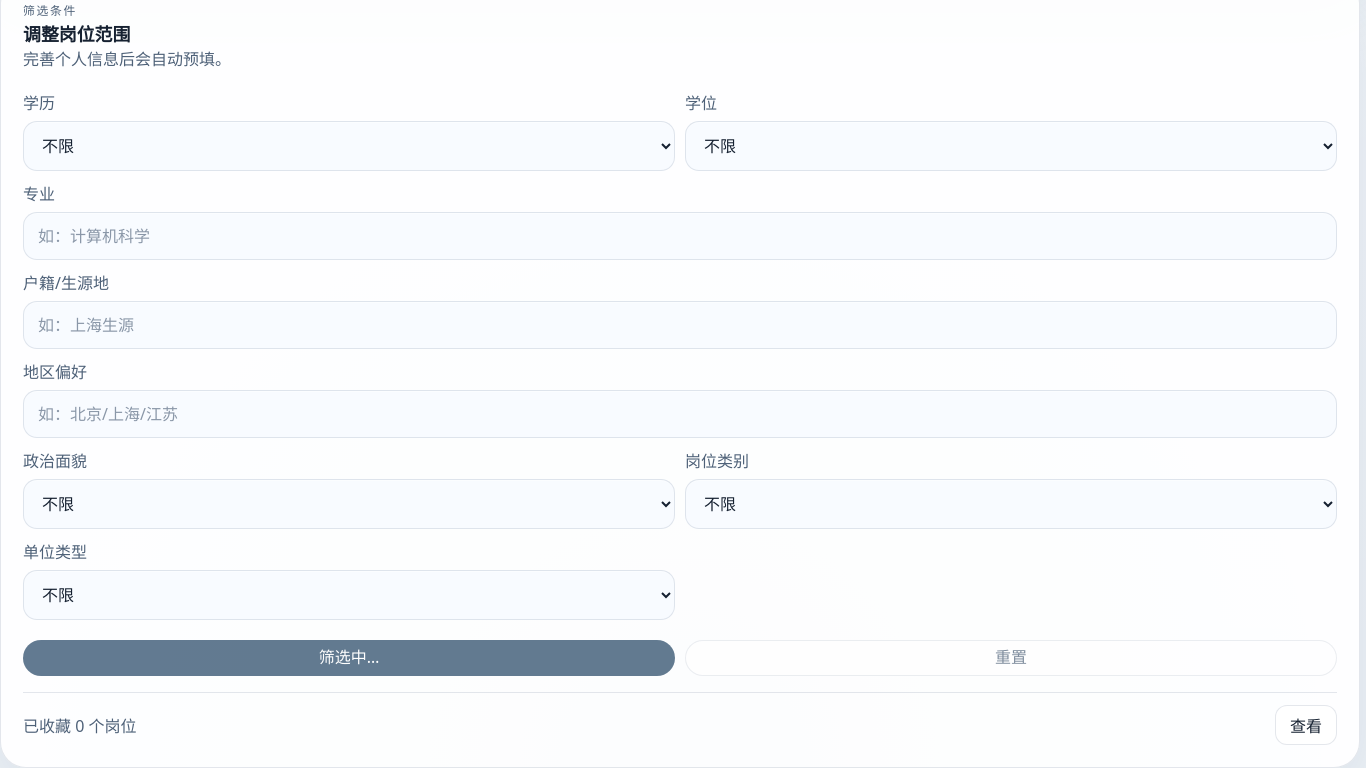
Test: kaogong student split pages › opens favorite jobs in a modal instead of rendering the collection list inline
The width and height of the screenshot is (1366, 768).
(page scrolled)
Expected: the text "收藏测试岗A" is not shown
Expected: the text "收藏测试岗B" is not shown
Click the button with aria-label "查看收藏岗位": (1306, 725) [1275,705,1337,745]
(page scrolled)
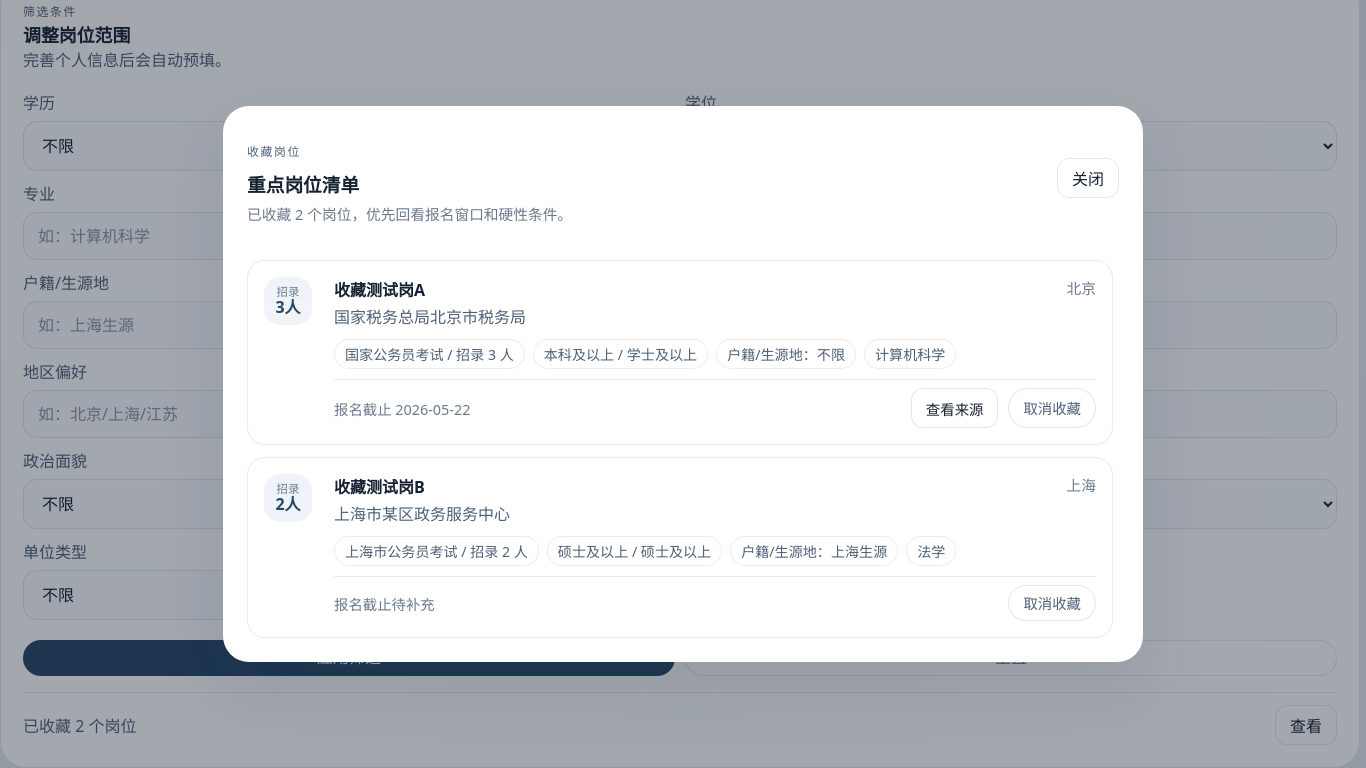
Expected: the dialog "收藏岗位" is shown, [223,106,1143,662]
Expected: the text "收藏测试岗A" is shown, [334,279,425,301]
Expected: the text "收藏测试岗B" is shown, [334,476,425,498]
Click the button with aria-label "关闭收藏岗位弹窗": (1088, 178) [1057,158,1119,198]
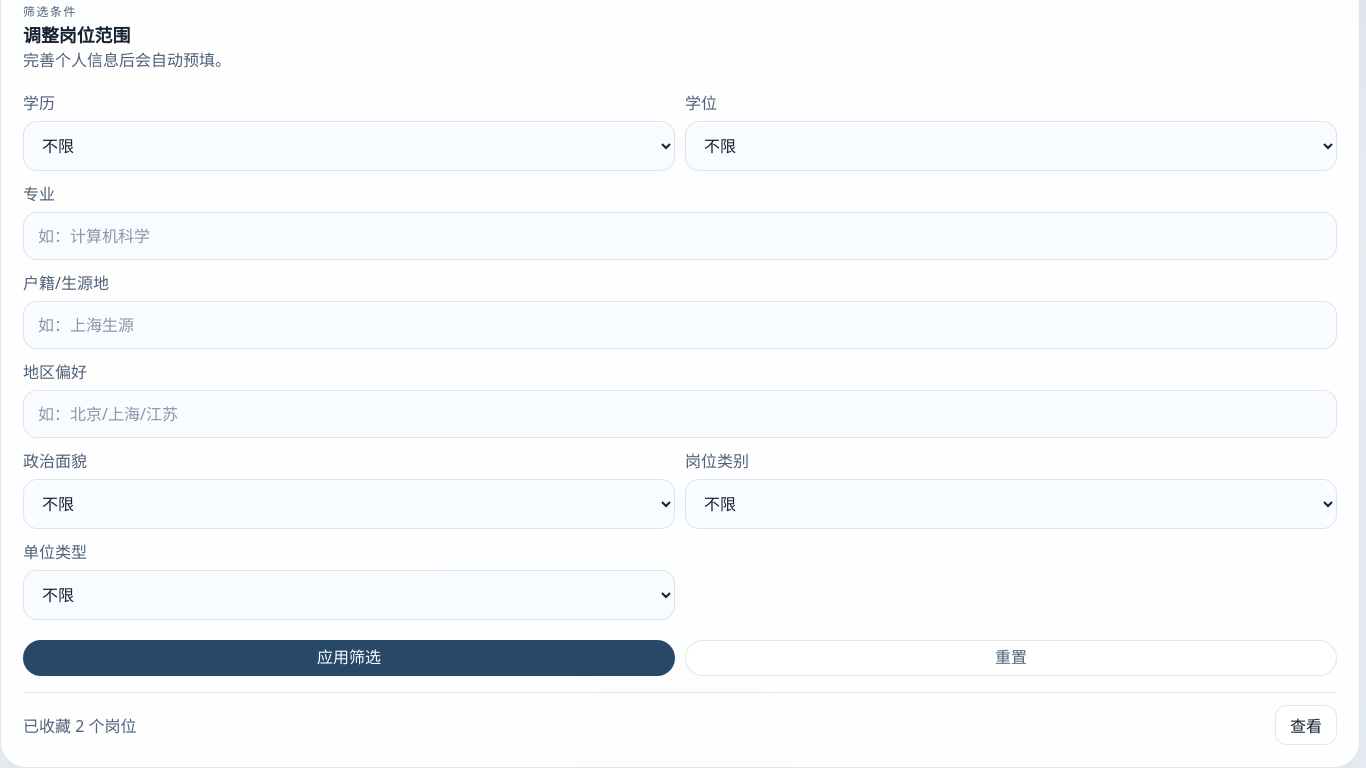
Expected: the text "收藏岗位" is gone
